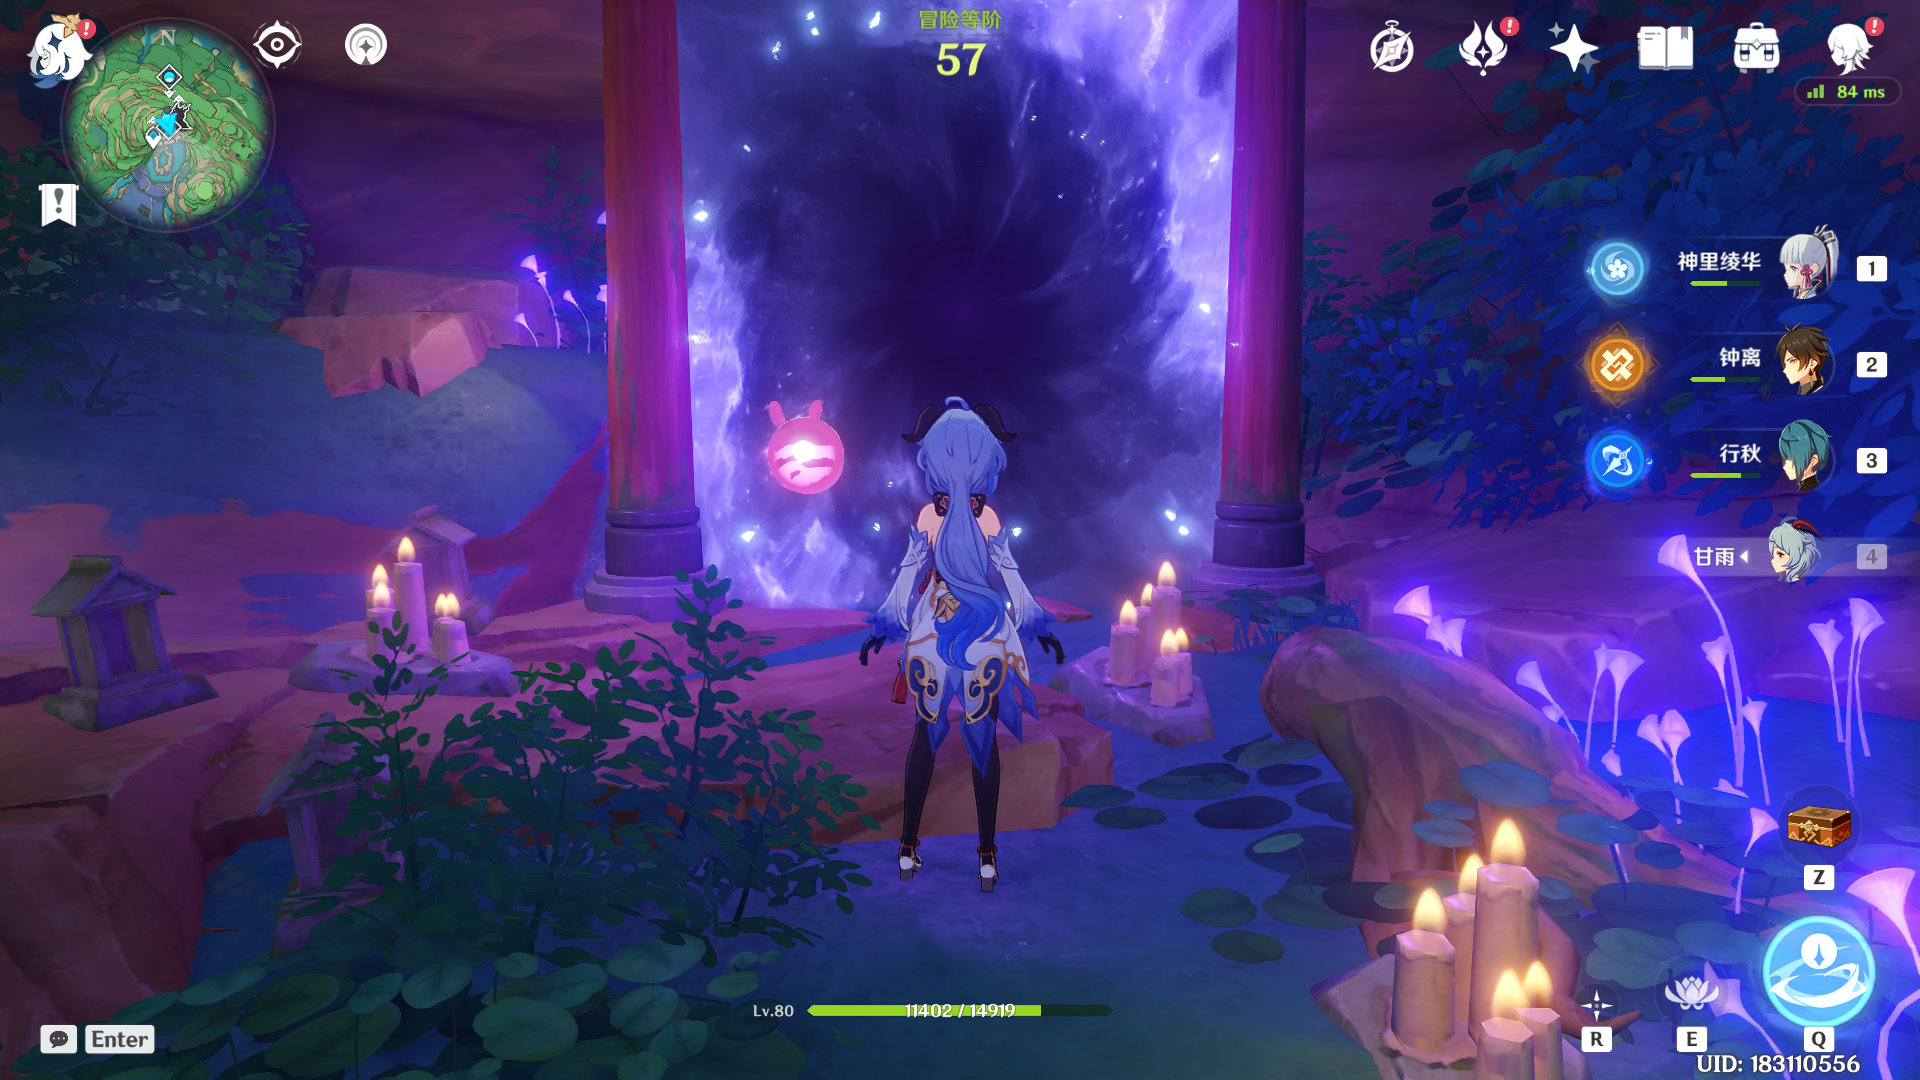character: (798, 382, 1101, 885)
